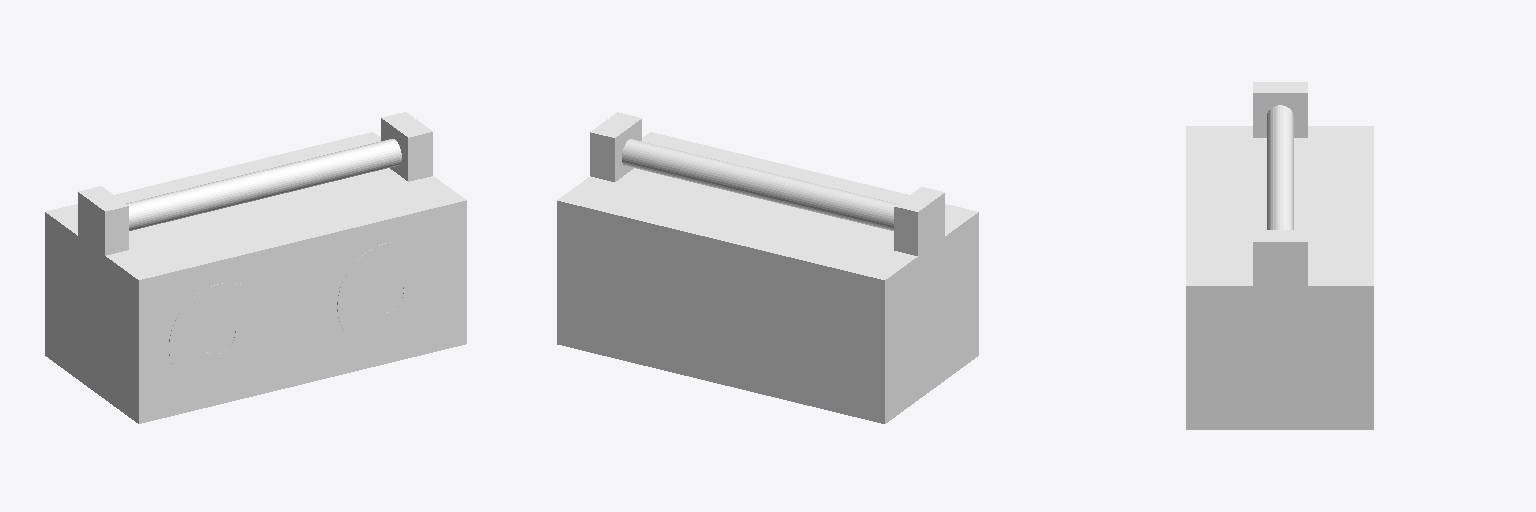
3 renders of one model, left to right at view 1: azimuth 30°, elevation 25°; view 2: azimuth 150°, elevation 25°; view 3: azimuth 270°, elevation 25°, orthographic.
Parts seen in each view (by area): view 1: BoomboxheadAll_BoxMaterial_1_BoxMaterial_1; view 2: BoomboxheadAll_BoxMaterial_1_BoxMaterial_1; view 3: BoomboxheadAll_BoxMaterial_1_BoxMaterial_1.
Boxes of the visible parts, x1=… form: BoomboxheadAll_BoxMaterial_1_BoxMaterial_1: x1=45, y1=112, x2=466, y2=423; BoomboxheadAll_BoxMaterial_1_BoxMaterial_1: x1=557, y1=112, x2=978, y2=423; BoomboxheadAll_BoxMaterial_1_BoxMaterial_1: x1=1186, y1=82, x2=1373, y2=429.
Bounding box in the file's own units: 36748 × 20127 × 18235.